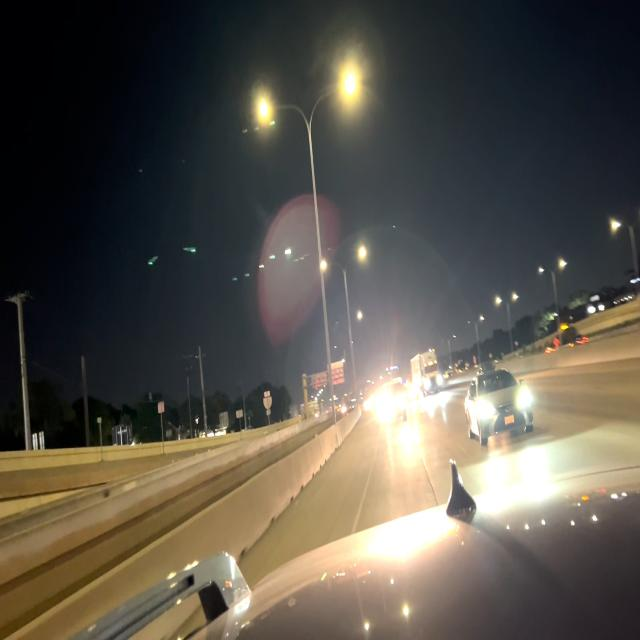back-of-sign: (311, 359, 345, 391), (264, 388, 274, 417)
